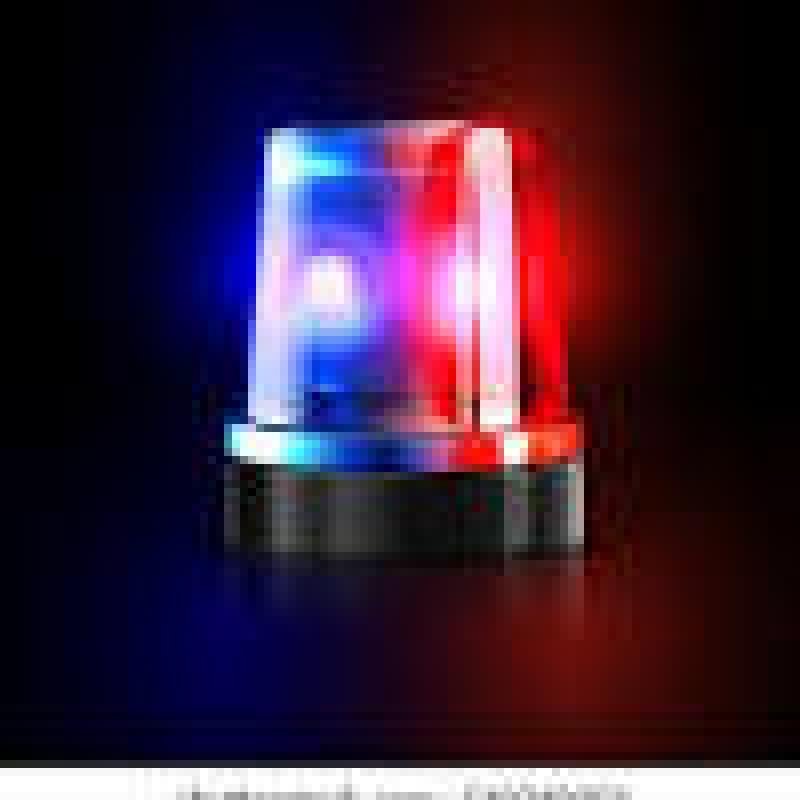AmbulanceSiren: (212, 88, 646, 588)
